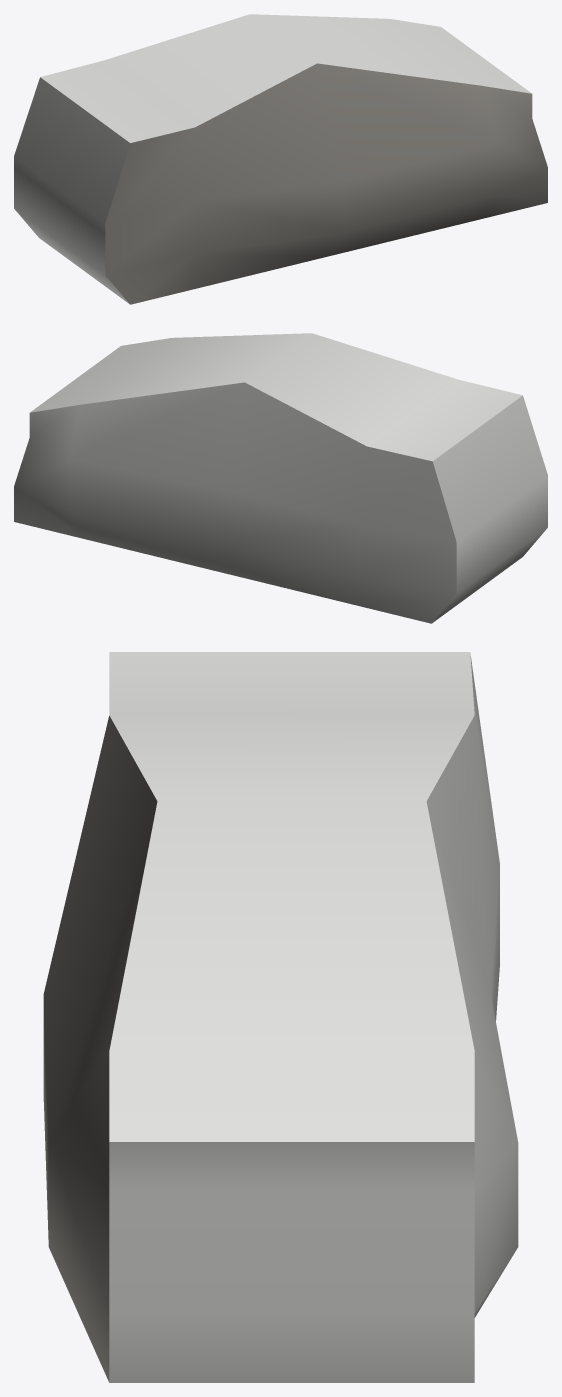
Rendered from nuevoruinas4contextura.fbx.
3 renders of one model, top to bottom at view 1: azimuth 30°, elevation 25°; view 2: azimuth 150°, elevation 25°; view 3: azimuth 270°, elevation 25°, orthographic. The views are drawn at different scales.
Parts seen in each view (by area): view 1: pCube1; view 2: pCube1; view 3: pCube1.
Boxes of the visible parts, x1,y1,x2,y2 form: pCube1: (14, 14, 547, 304); pCube1: (14, 333, 547, 623); pCube1: (43, 652, 518, 1382).
Size of the model in its own units: 116 by 46.22 by 54.01.
Materials: 1 (1 with a texture image).
